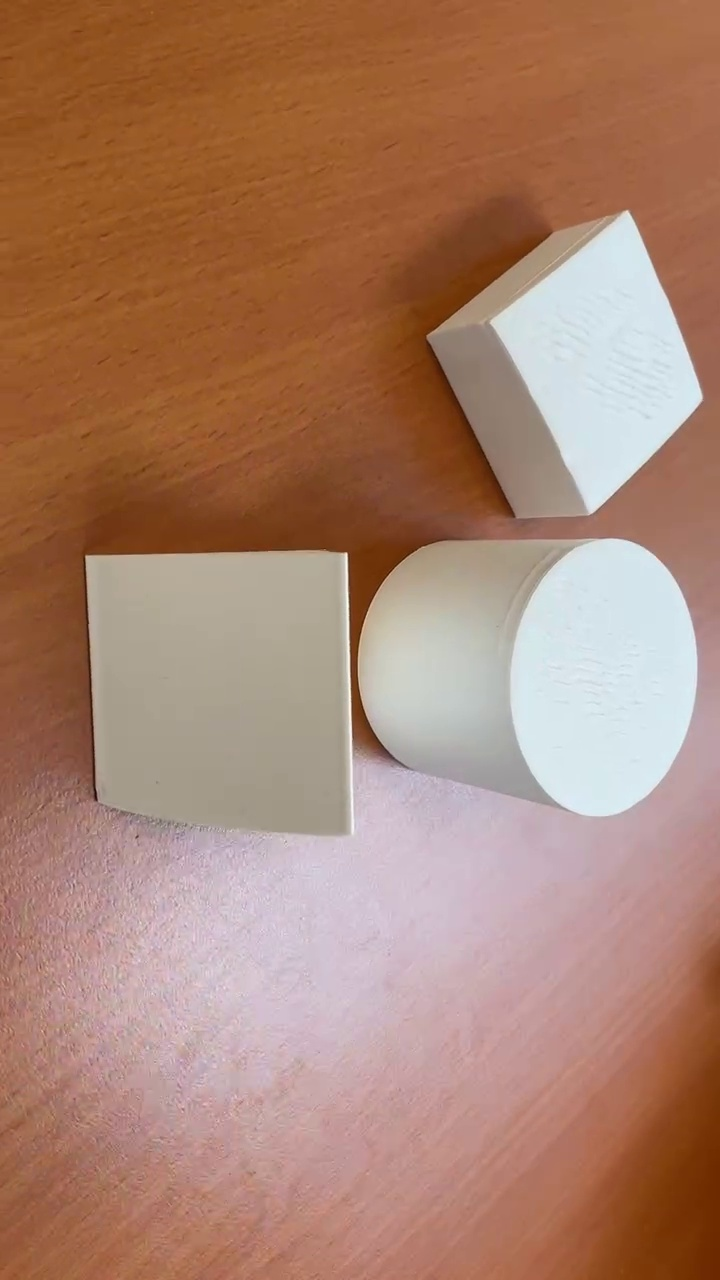Cube_short: (419, 211, 705, 513)
Cylinder: (353, 541, 704, 816)
Triangle: (81, 550, 356, 837)
